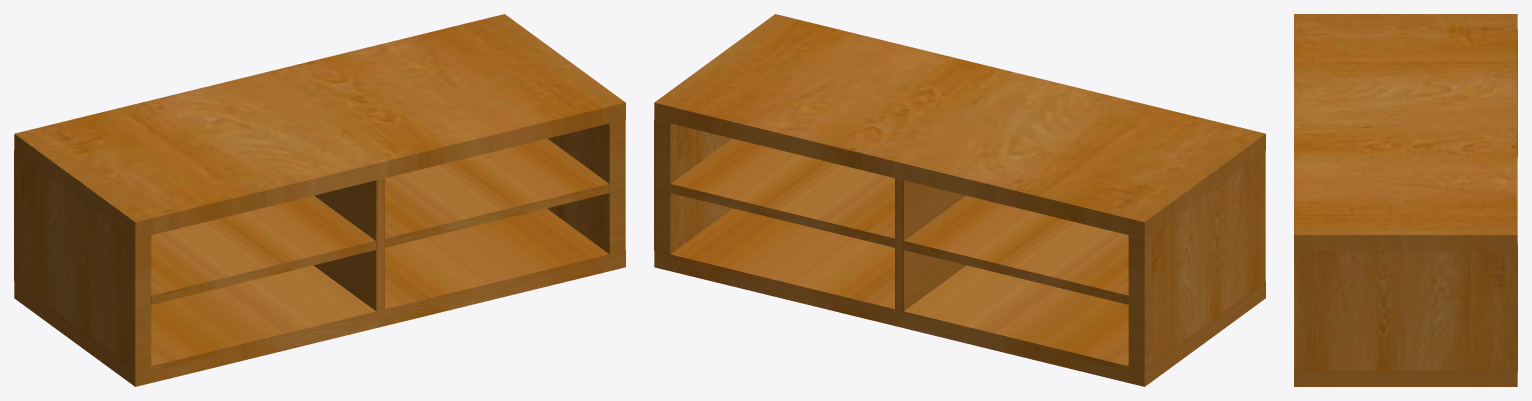
Rendered from sweethome3d-contributions-tv-shelf-unit-337.glb.
3 views of the same model, side by side, from view 1: azimuth 30°, elevation 25°; view 2: azimuth 150°, elevation 25°; view 3: azimuth 270°, elevation 25° (orthographic). The views are drawn at different scales.
Visible parts, largest first — view 1: Cube_1_1_4, Cube_1_1, Cube_2_2, Cube_4_6, Cube_4_1_7, Cube_2_1_3, Cube_3_5; view 2: Cube_1_1_4, Cube_1_1, Cube_2_2, Cube_4_6, Cube_4_1_7, Cube_2_1_3, Cube_3_5; view 3: Cube_1_1_4, Cube_2_1_3, Cube_1_1.
Part boxes in pixels (left/top/right/bottom): Cube_1_1_4: left=14, top=14, right=625, bottom=238; Cube_1_1: left=14, top=208, right=625, bottom=386; Cube_2_2: left=14, top=150, right=151, bottom=369; Cube_4_6: left=151, top=195, right=375, bottom=304; Cube_4_1_7: left=385, top=138, right=609, bottom=247; Cube_2_1_3: left=547, top=119, right=625, bottom=254; Cube_3_5: left=314, top=178, right=384, bottom=311; Cube_1_1_4: left=654, top=14, right=1265, bottom=238; Cube_1_1: left=654, top=208, right=1265, bottom=386; Cube_2_2: left=1128, top=151, right=1265, bottom=370; Cube_4_6: left=904, top=195, right=1128, bottom=304; Cube_4_1_7: left=670, top=138, right=894, bottom=247; Cube_2_1_3: left=654, top=119, right=732, bottom=254; Cube_3_5: left=895, top=178, right=966, bottom=311; Cube_1_1_4: left=1294, top=14, right=1517, bottom=250; Cube_2_1_3: left=1294, top=243, right=1517, bottom=371; Cube_1_1: left=1294, top=263, right=1517, bottom=386.
Size of what is drawn, in the model's own units: 104 by 33.29 by 44.44.
Materials: 1 (1 with a texture image).
